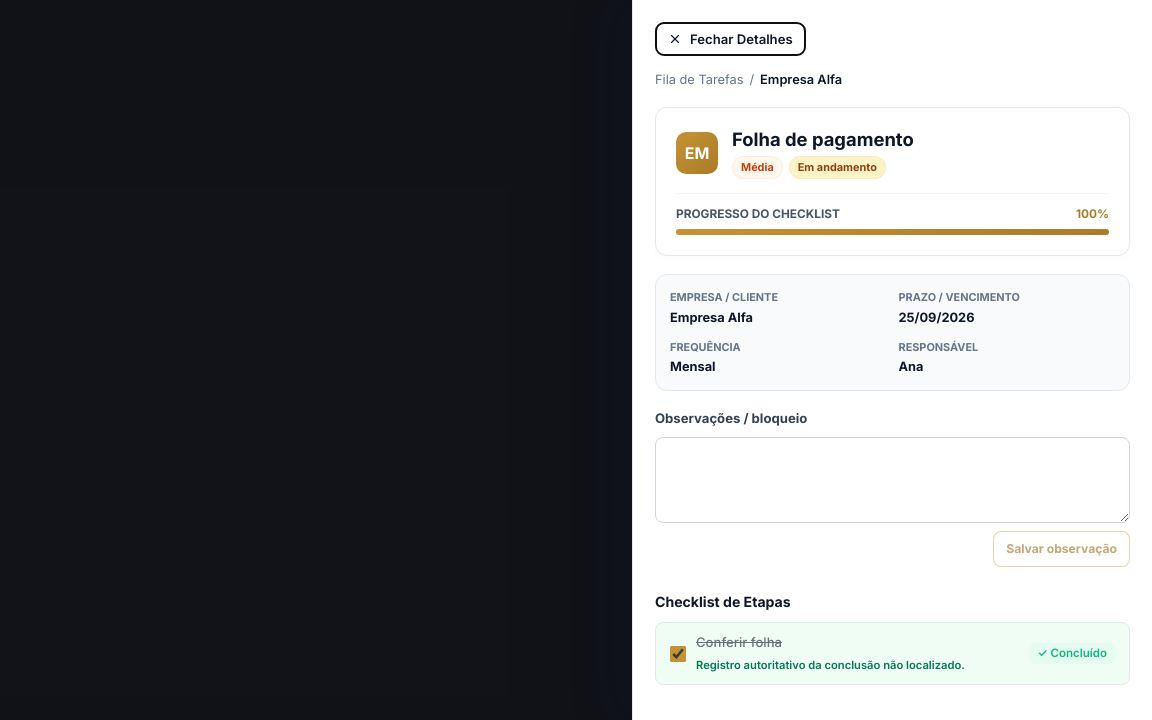
Test: TaskDetailsDrawer › mostra falha da RPC e bloqueia toggles paralelos do checklist
This screenshot has width=1152, height=720.
Click the checkbox labelled "Conferir folha": (678,654) [670,646,686,662]
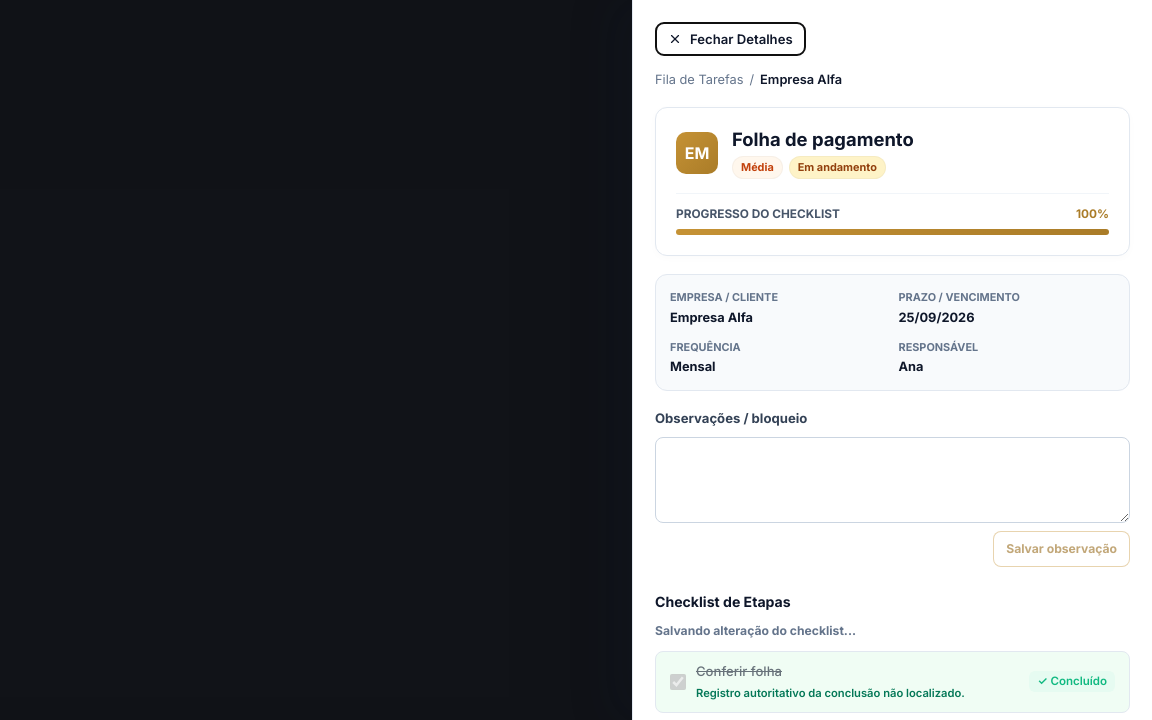
Expected: the checkbox labelled "Conferir folha" is disabled
Expected: the message shows "Salvando alteração", [655,623,856,638]
Click the checkbox labelled "Conferir folha": (678,682) [670,674,686,690]
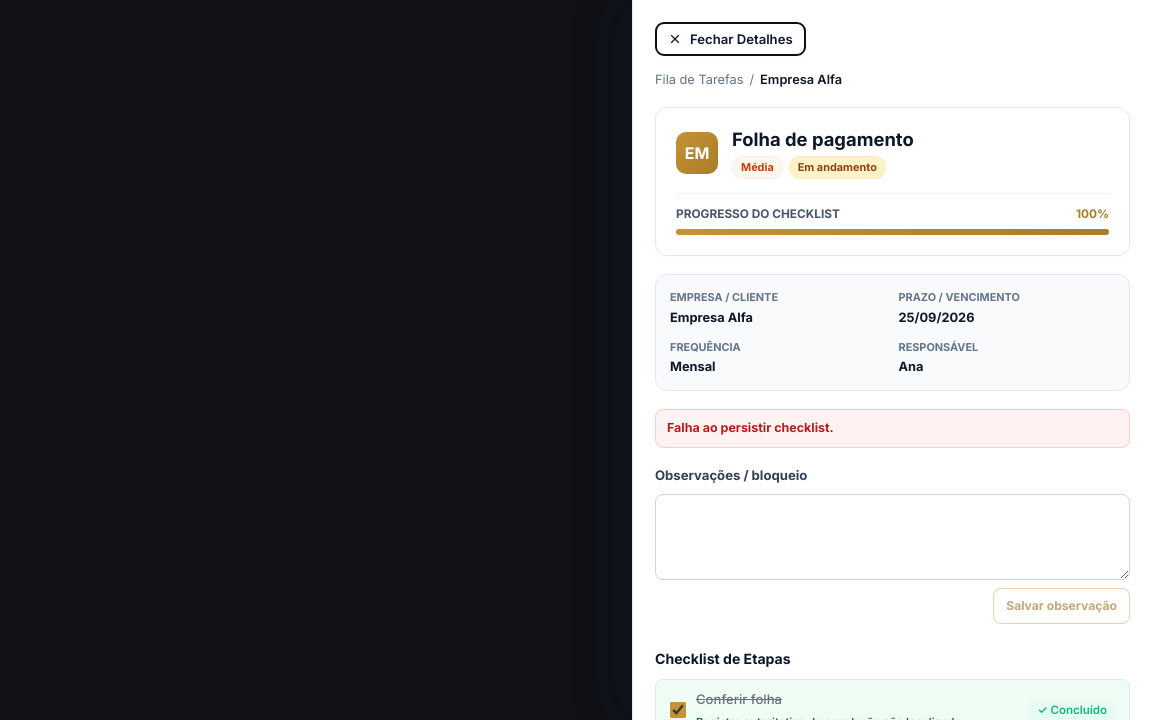
Expected: the message reads "Falha ao persistir checklist.", [667,420,834,435]
